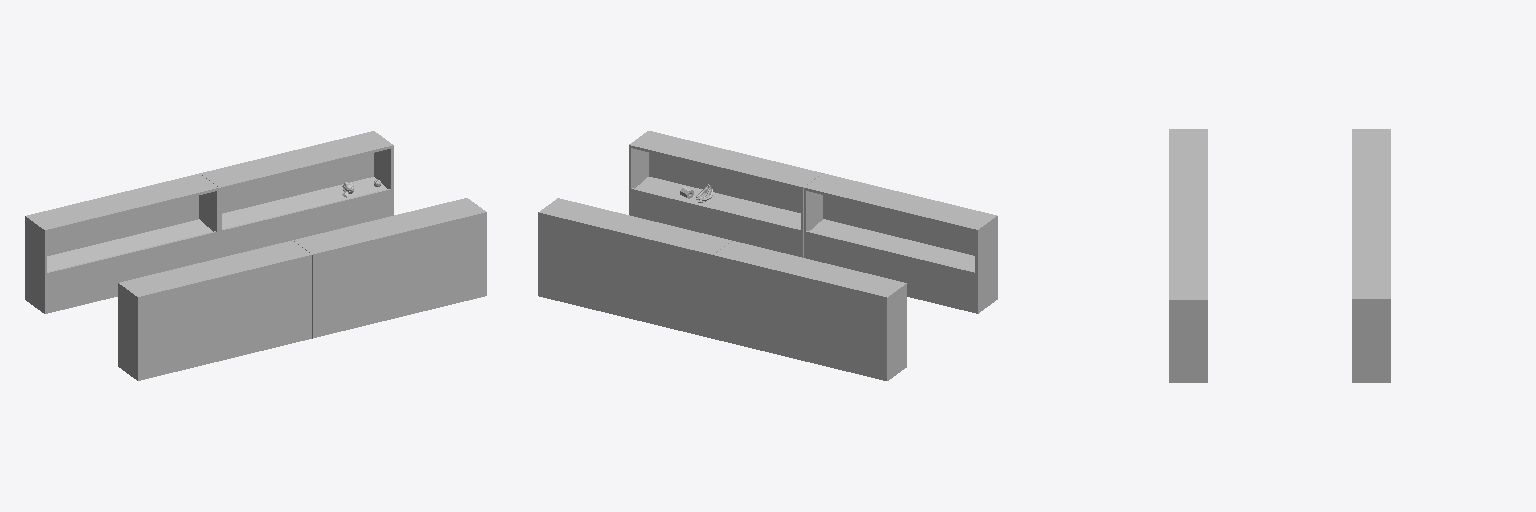
File: Aisle3_Shelves.obj
The picture shows the model from 3 angles: view 1: azimuth 30°, elevation 25°; view 2: azimuth 150°, elevation 25°; view 3: azimuth 270°, elevation 25°; orthographic projection.
Visible parts, largest first — view 1: Aisle3_Shelves; view 2: Aisle3_Shelves; view 3: Aisle3_Shelves.
Part boxes in pixels (bbox=[...]): Aisle3_Shelves: bbox=[25, 131, 486, 380]; Aisle3_Shelves: bbox=[538, 131, 997, 380]; Aisle3_Shelves: bbox=[1169, 129, 1390, 382].
Bounding box in the file's own units: 10.31 × 2.36 × 5.68.